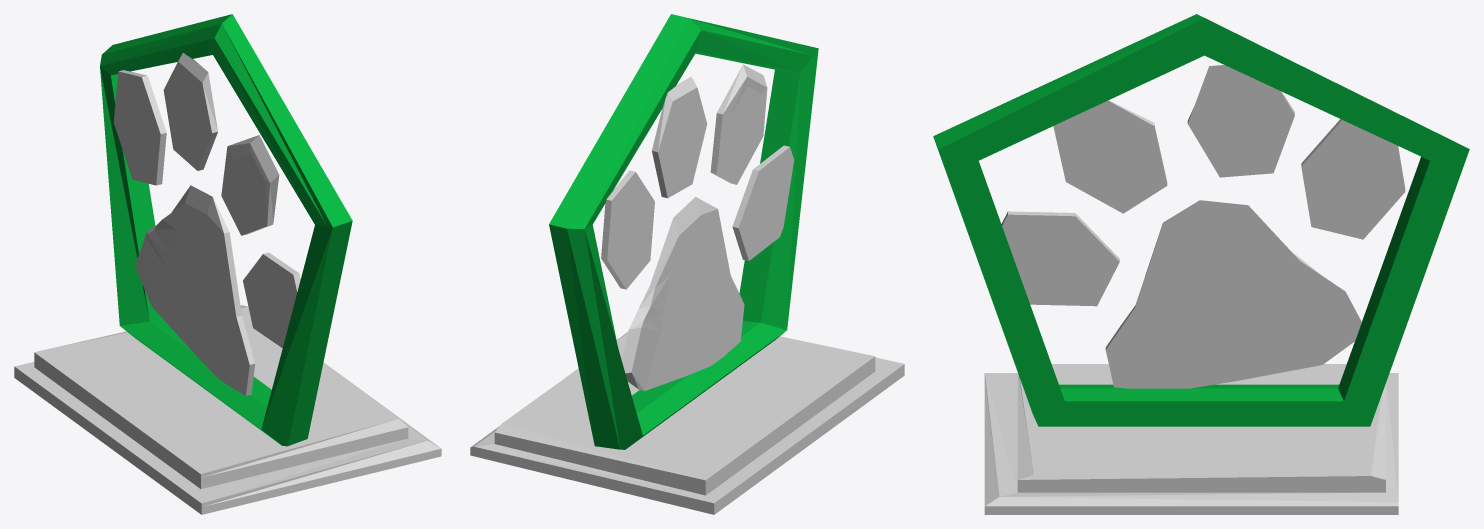
File: silverPawgreen.FBX
3 renders of one model, left to right at view 1: azimuth 30°, elevation 25°; view 2: azimuth 150°, elevation 25°; view 3: azimuth 270°, elevation 25°, orthographic. The views are drawn at different scales.
Parts seen in each view (by area): view 1: Box226; view 2: Box226; view 3: Box226.
Part boxes in pixels (left/top/right/bottom): Box226: left=14, top=14, right=441, bottom=514; Box226: left=470, top=14, right=904, bottom=514; Box226: left=933, top=14, right=1469, bottom=514.
Bounding box in the file's own units: 7.97 × 12.58 × 13.97.
